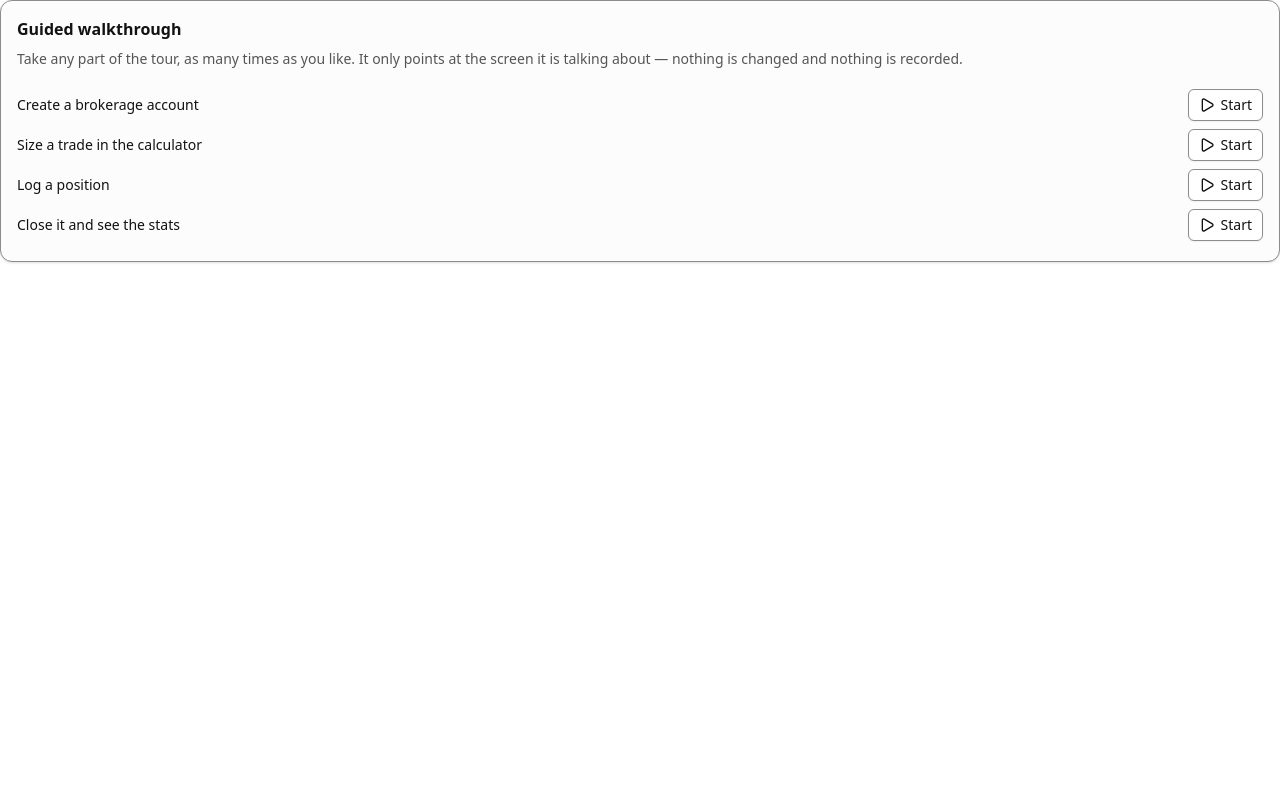
WalkthroughLauncher — the entry point that outlives the checklist › will not open the close set on the sample account’s position
The width and height of the screenshot is (1280, 800).
Click the button with aria-label "Start walkthrough: Close it and see the stats" at (1225,225), box x1=1188 y1=209 x2=1263 y2=241
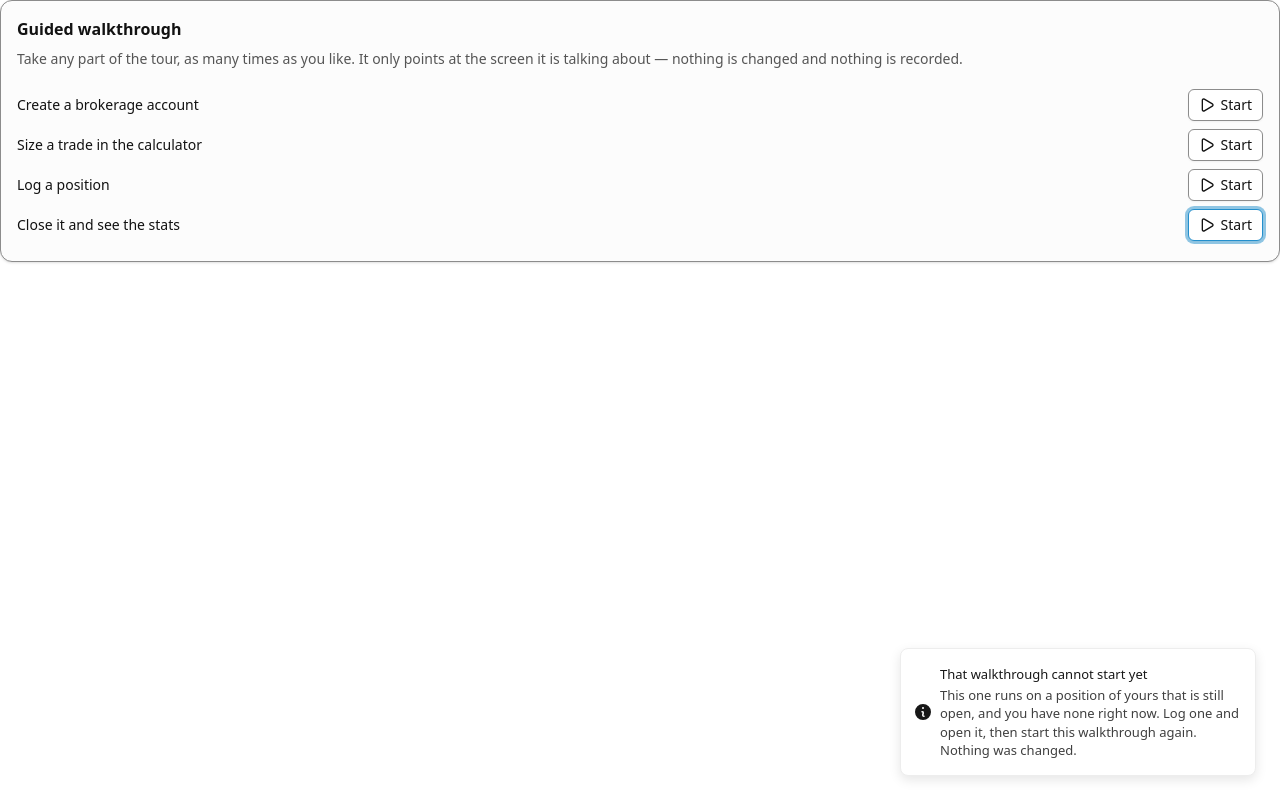
Result: the text "That walkthrough cannot start yet" is shown at x1=940 y1=665 x2=1147 y2=683
